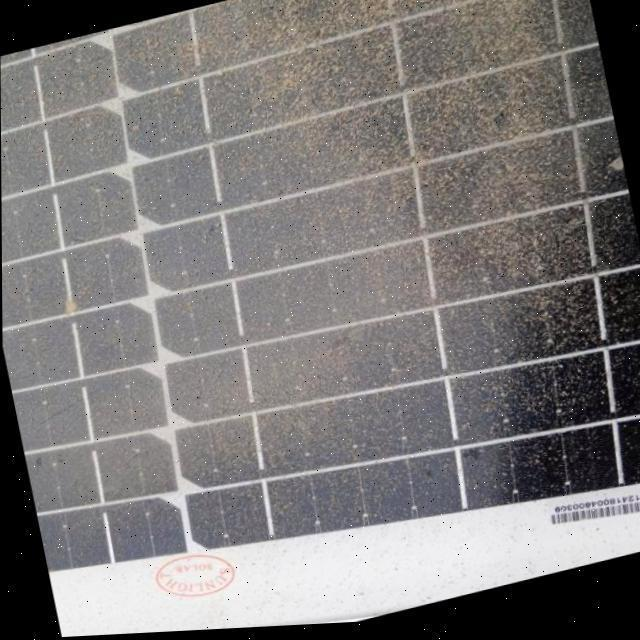Anomaly Solar Panel: (0, 0, 640, 640)
Surface Contaminant: (1, 3, 640, 628)
